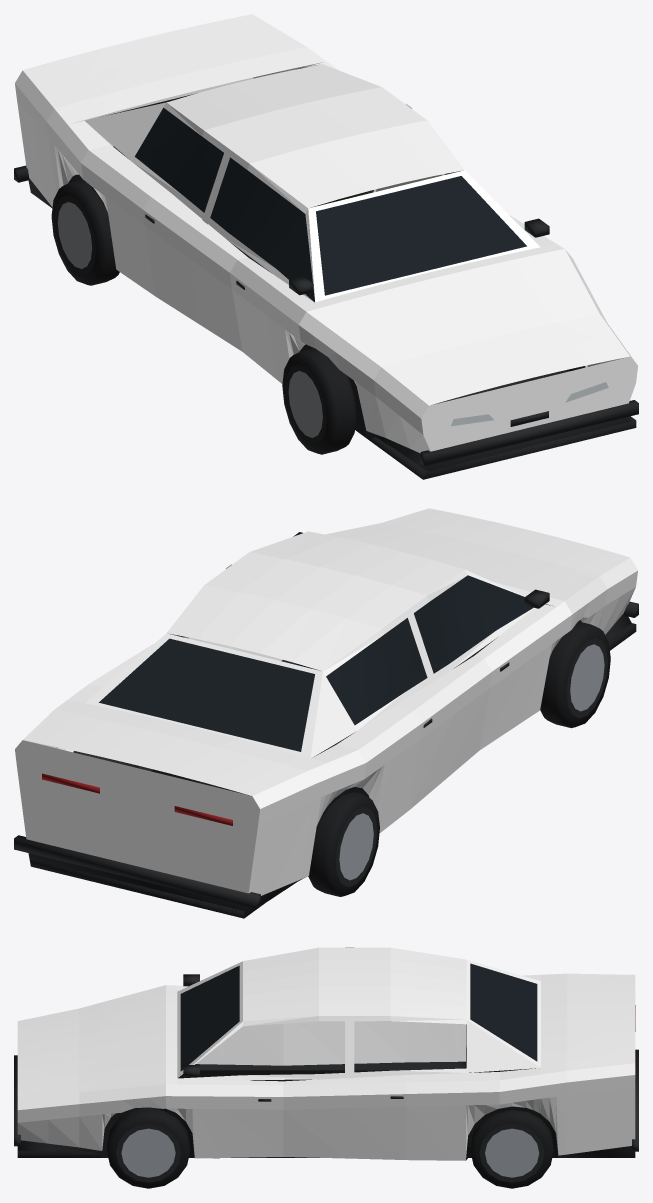
The model's file is keldorf_calha.glb.
The picture shows the model from 3 angles, top to bottom: view 1: azimuth 30°, elevation 25°; view 2: azimuth 150°, elevation 25°; view 3: azimuth 270°, elevation 25°; orthographic projection. The views are drawn at different scales.
Visible parts, largest first — view 1: Body_Paint, Body_Details, Mount_FrontLeft_Wheel_Details, Mount_RearLeft_Wheel_Details; view 2: Body_Paint, Body_Details, Mount_RearLeft_Wheel_Details, Mount_FrontLeft_Wheel_Details; view 3: Body_Paint, Body_Details, Mount_FrontRight_Wheel_Details, Mount_RearRight_Wheel_Details.
Part boxes in pixels (box(x1,y1,x2,y2)): Body_Paint: box(15, 14, 637, 453); Body_Details: box(14, 67, 638, 479); Mount_FrontLeft_Wheel_Details: box(282, 348, 356, 454); Mount_RearLeft_Wheel_Details: box(51, 180, 119, 285); Body_Paint: box(15, 508, 637, 895); Body_Details: box(14, 532, 638, 918); Mount_RearLeft_Wheel_Details: box(308, 792, 379, 896); Mount_FrontLeft_Wheel_Details: box(540, 621, 610, 728); Body_Paint: box(17, 947, 635, 1160); Body_Details: box(14, 963, 638, 1160); Mount_FrontRight_Wheel_Details: box(106, 1107, 190, 1188); Mount_RearRight_Wheel_Details: box(470, 1110, 553, 1188).
Bounding box in the file's own units: 2.02 × 1.35 × 4.86.
2 materials, 1 textured.
